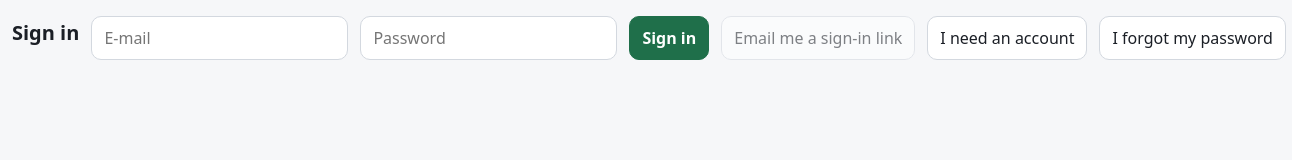
Test: App › shows a message when signing in fails
In the field with placeholder "E-mail": (220, 38) [91,16,348,60], type "a@b.c"
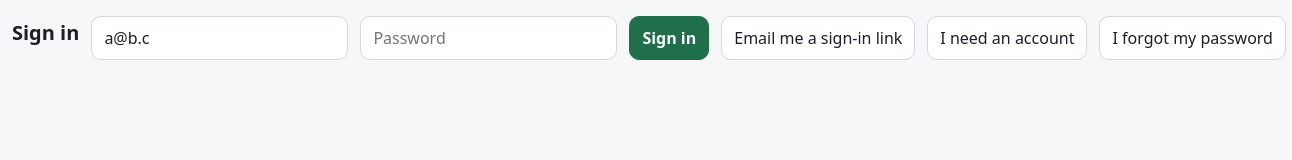
In the password field with placeholder "Password": (489, 38) [360,16,617,60], type "secret1"
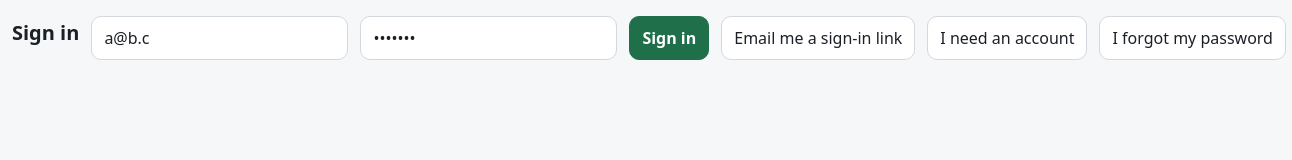
Click the button "Sign in": click(669, 38) [629,16,709,60]
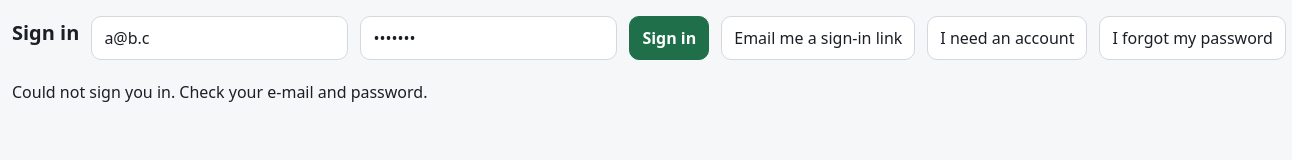
Expected: the message reads "Could not sign you in. Check your e-mail and password.", [12,81,428,103]
